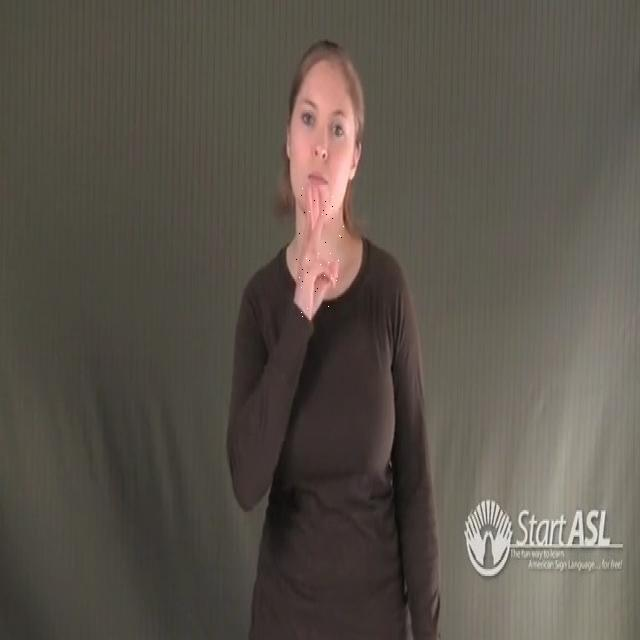water: (296, 184, 344, 317)
